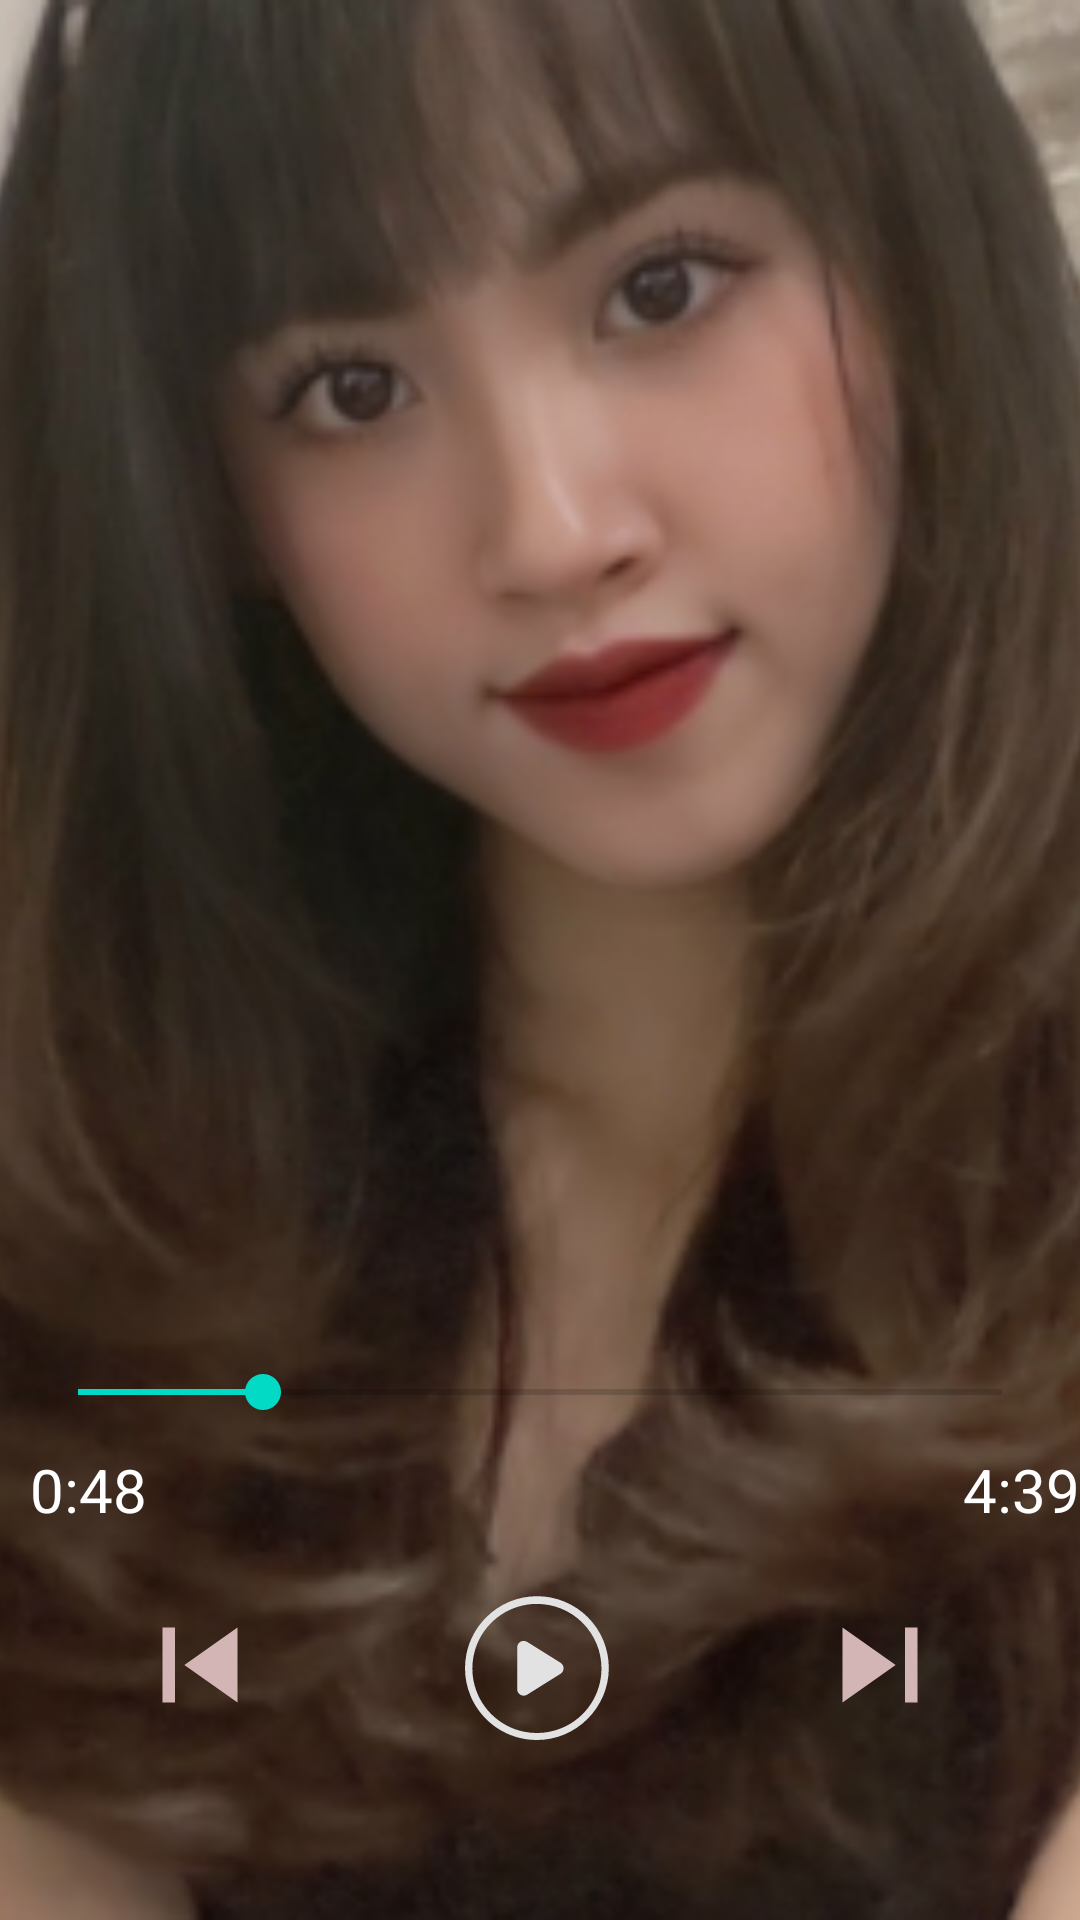

Named icons in this screenshot (1080x1920) and their bounding boxes, (x1=x1, y1=y1, x2=x2, y2=y2):
play next: (x1=842, y1=1627, x2=918, y2=1703)
play prev: (x1=162, y1=1627, x2=238, y2=1703)
